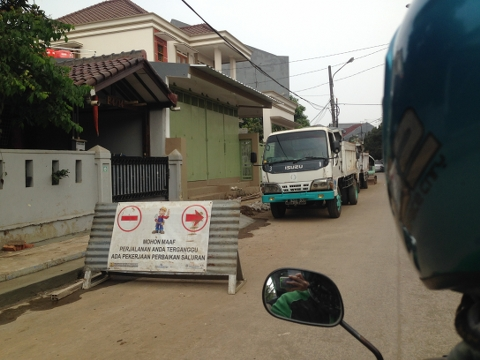mobil: (251, 127, 360, 219)
